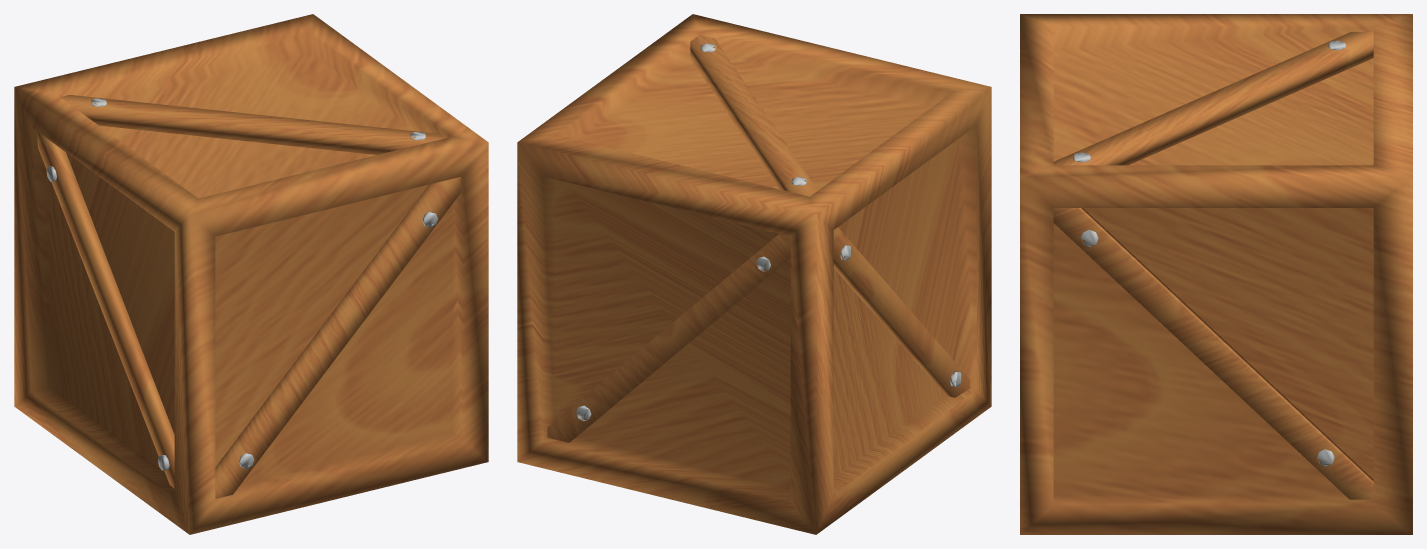
3 views of the same model, side by side, from view 1: azimuth 30°, elevation 25°; view 2: azimuth 150°, elevation 25°; view 3: azimuth 270°, elevation 25° (orthographic). The views are drawn at different scales.
Parts seen in each view (by area): view 1: Caja_1; view 2: Caja_1; view 3: Caja_1.
Boxes of the visible parts, x1,y1,x2,y2 form: Caja_1: (14,14,488,534); Caja_1: (517,14,991,534); Caja_1: (1020,14,1412,534).
Bounding box in the file's own units: 7.7 × 7.87 × 7.83.
